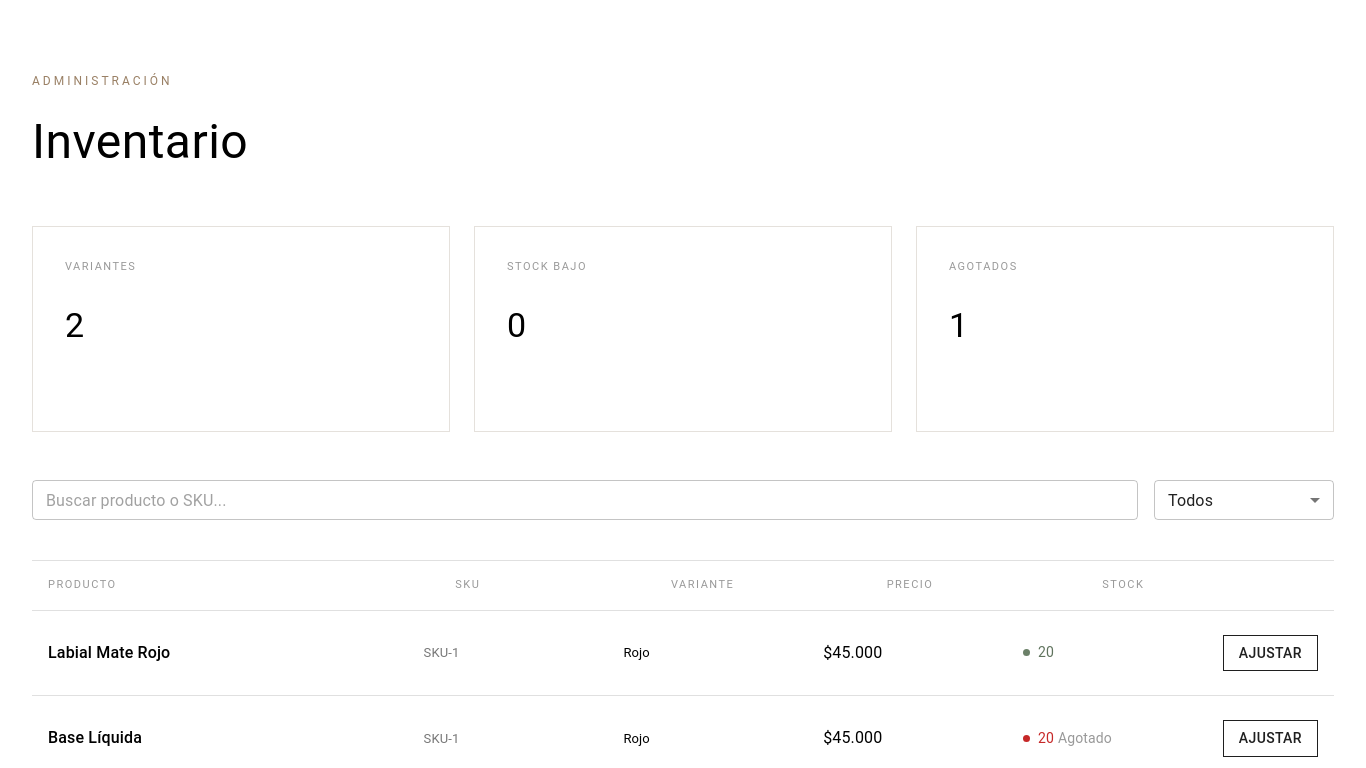
Test case: AdminInventory › filters by stock status
The width and height of the screenshot is (1366, 768).
Expected: the text "Labial Mate Rojo" is shown, [48, 643, 170, 662]
Step 1. Click the dropdown "Todos" → (1191, 500), box [1168, 490, 1213, 510]
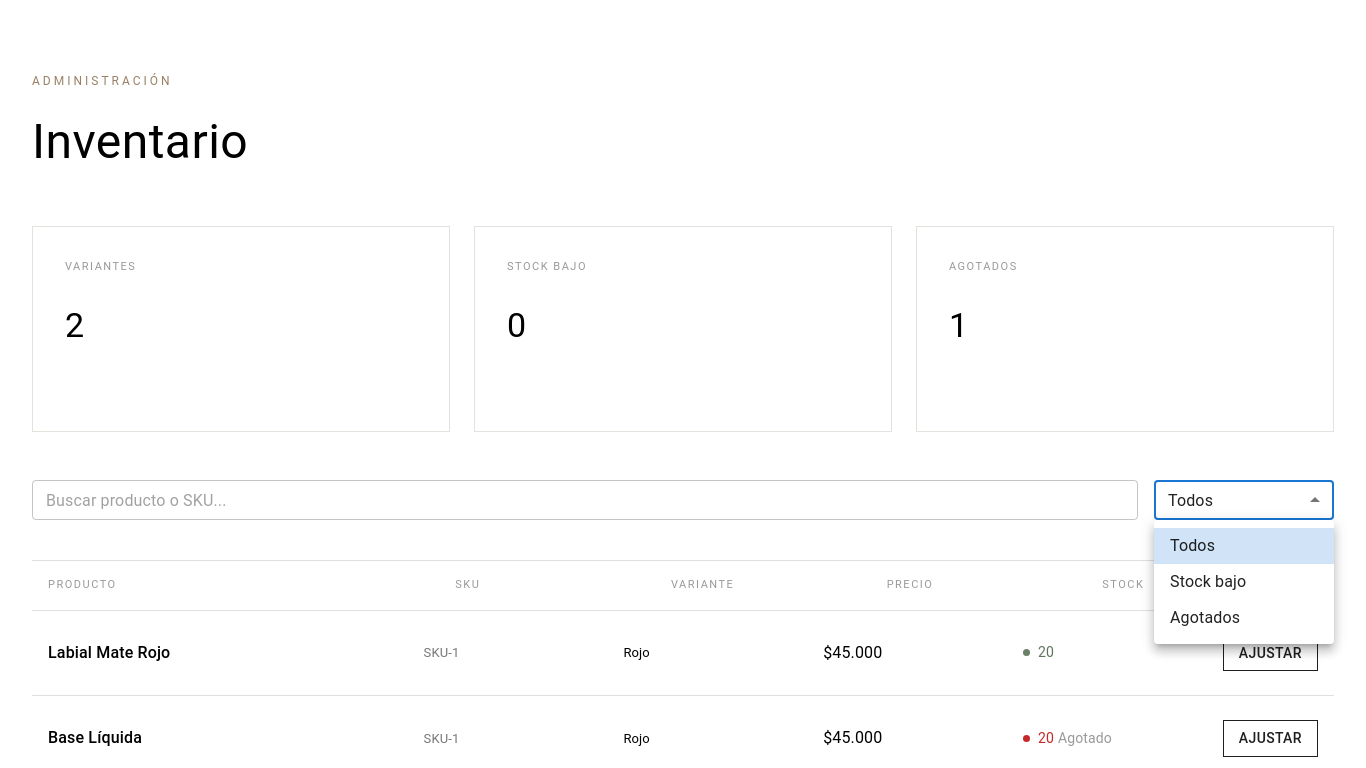
Step 2. Click the option "Agotados" → (1205, 618), box [1170, 608, 1240, 627]
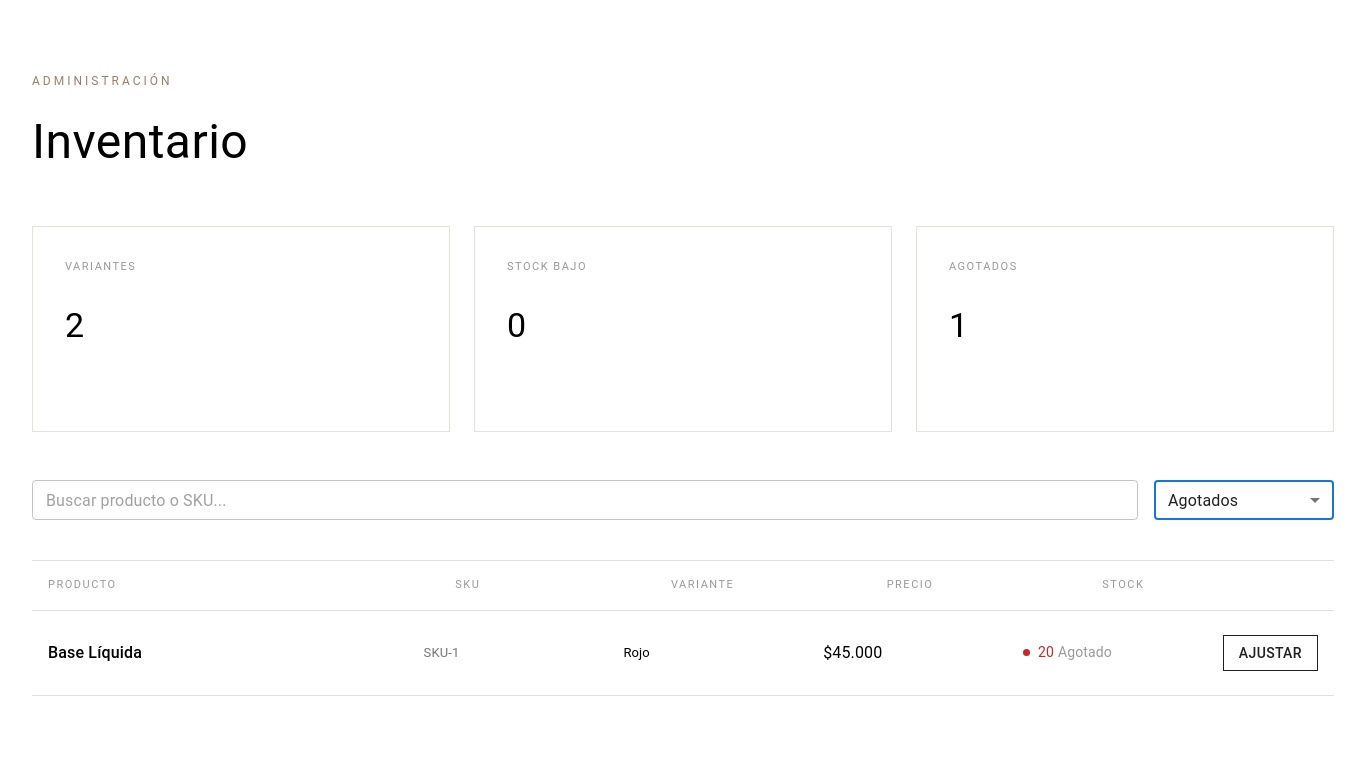
Expected: the text "Base Líquida" is shown, [48, 643, 142, 662]
Now the text "Labial Mate Rojo" is gone
